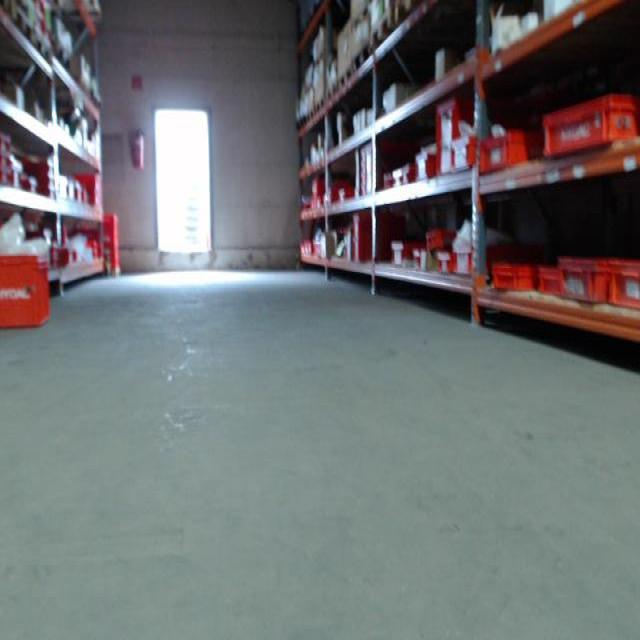pallet: (372, 8, 394, 51), (394, 1, 422, 30), (11, 8, 33, 40), (354, 43, 370, 73), (340, 65, 352, 90)
small_load_carrier: (537, 87, 639, 156), (0, 250, 53, 333), (428, 99, 473, 175), (553, 244, 608, 304), (480, 253, 549, 300), (471, 130, 537, 175), (352, 207, 387, 267), (607, 254, 637, 315), (453, 130, 483, 172), (416, 226, 458, 256), (389, 235, 421, 270), (534, 258, 564, 295), (451, 248, 486, 278), (414, 146, 434, 180)
